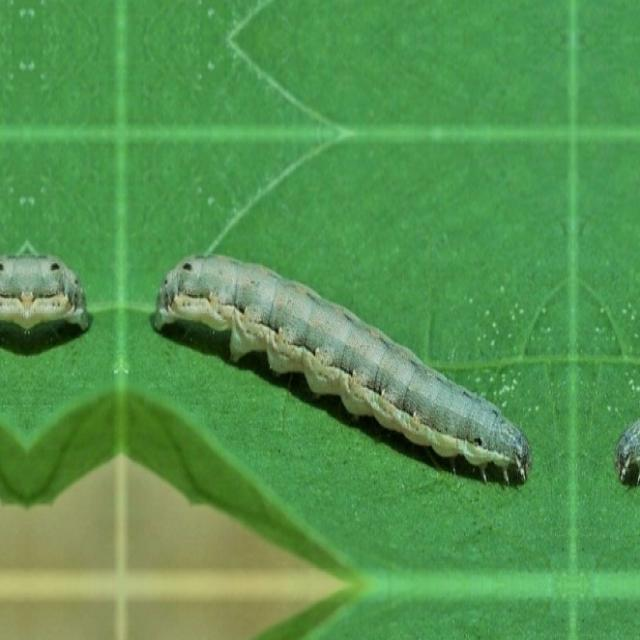armyworm: (152, 251, 532, 486), (0, 251, 89, 335)
